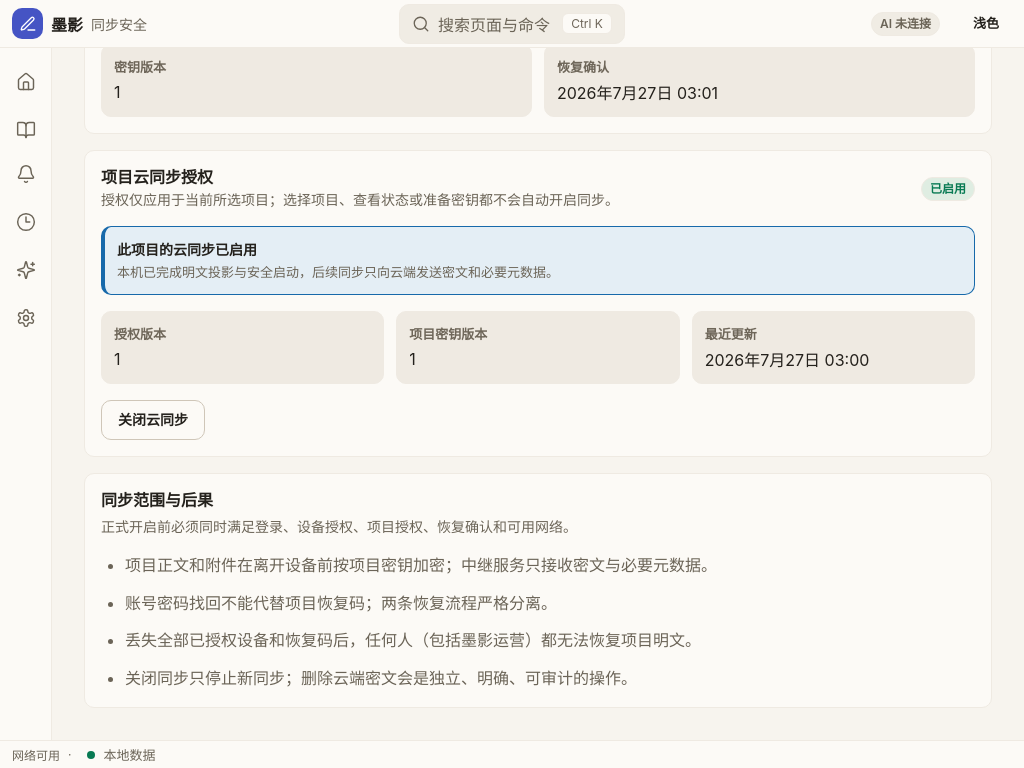
Test: SyncSecurityPage › requires a separate confirmation before disabling without deleting cloud ciphertext
(page scrolled)
Click the button "关闭云同步": click(153, 420) [101,400,205,440]
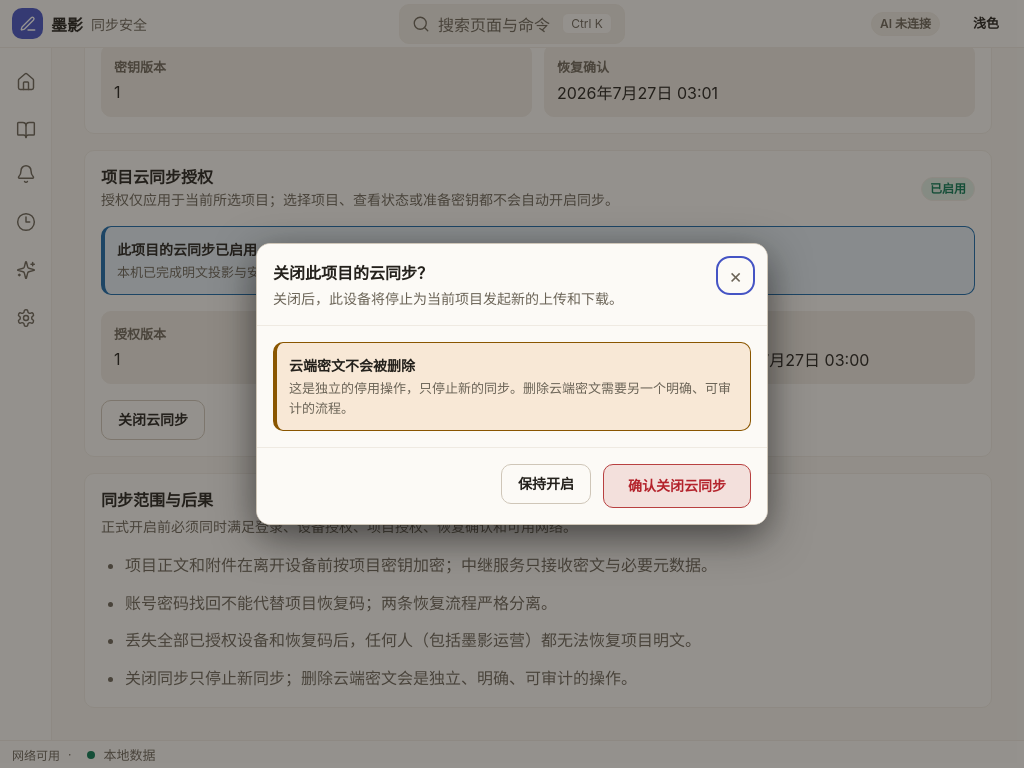
Now the text "云端密文不会被删除" is shown, box [289,357,415,374]
Click the button "确认关闭云同步": click(677, 486) [603,464,751,508]
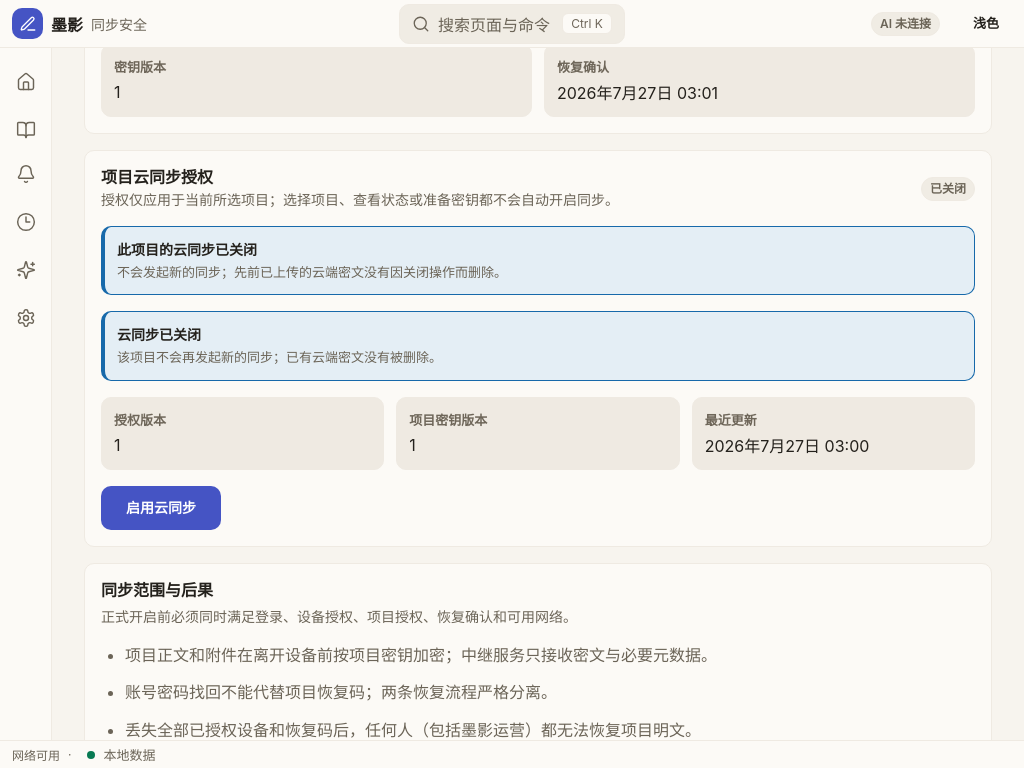
Now the text "此项目的云同步已关闭" is shown, box [117,241,257,258]
